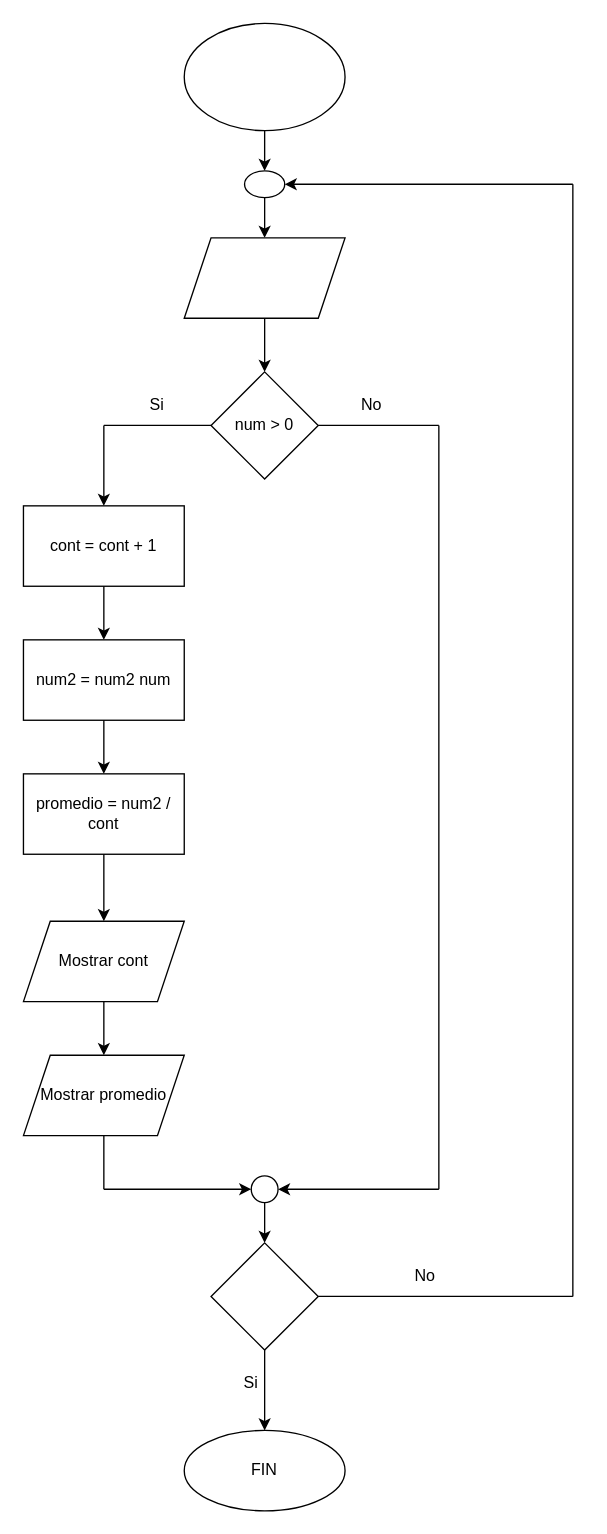
Some shapes in this 607 by 1534 pixel diagram are drawn without their labels. Here are the shapes that lost their labels. From the top down, the centre of each, then its label:
At point (264, 76): "Inicio".
At point (264, 277): "Solicitar un número".
At point (264, 1296): "num = 0".
